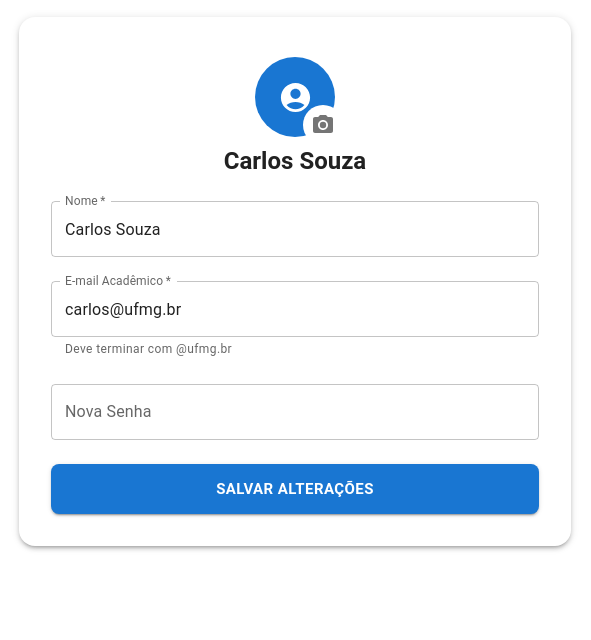
Test: Perfil — tratamento de erros › exibe a mensagem de erro retornada pela API
Click the button "Salvar Alterações" at (295, 489), box [51,464,539,514]
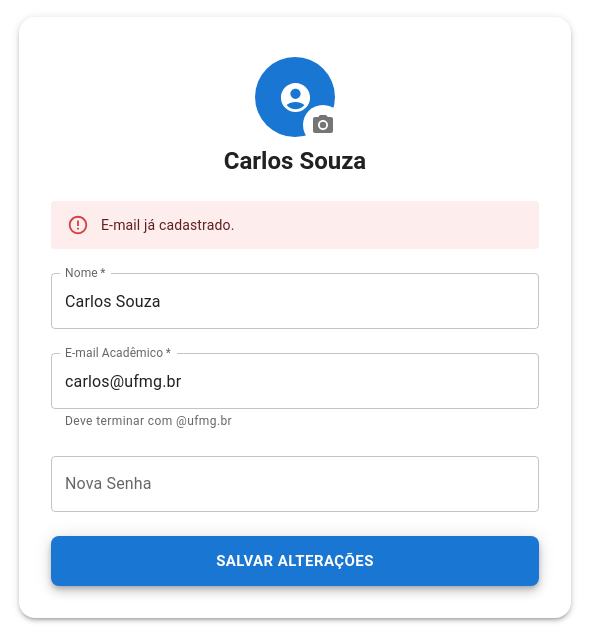
Expected: the message "E-mail já cadastrado." is shown, [51,201,539,249]
Expected: the text "E-mail já cadastrado." is shown, [101,217,234,233]
